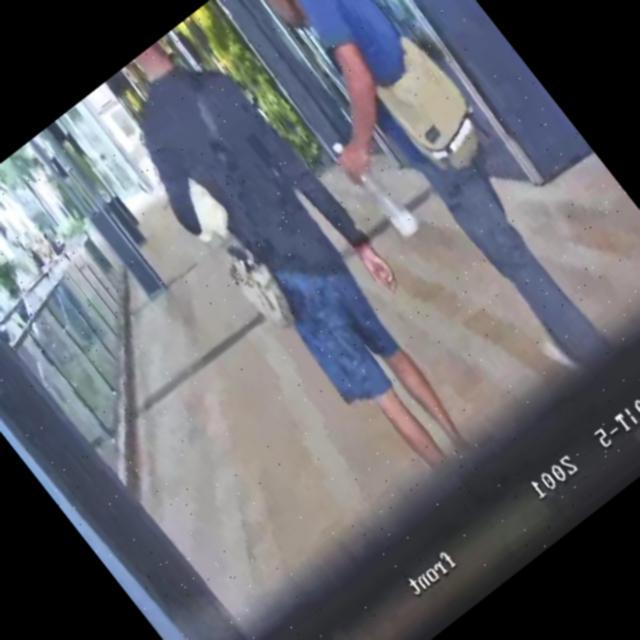person: (83, 12, 510, 504), (208, 0, 640, 414)
